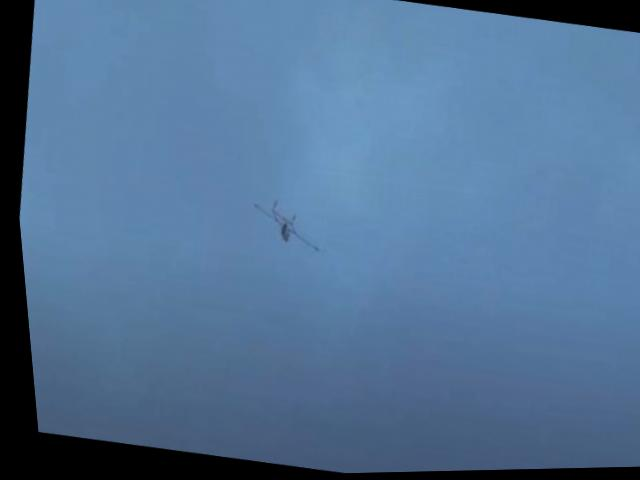iha: (240, 189, 325, 257)
